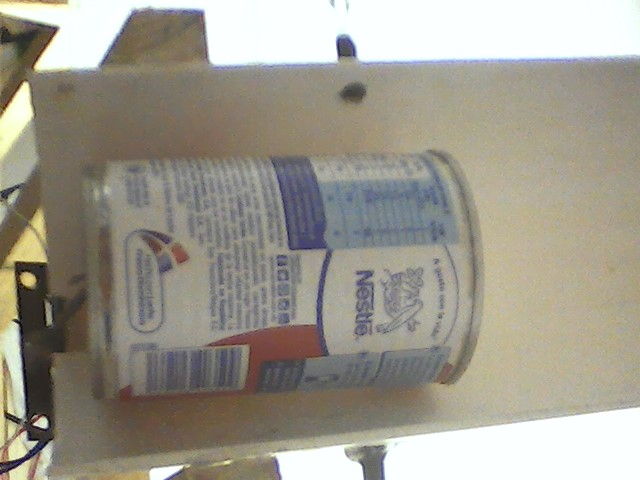lata: (72, 145, 494, 402)
